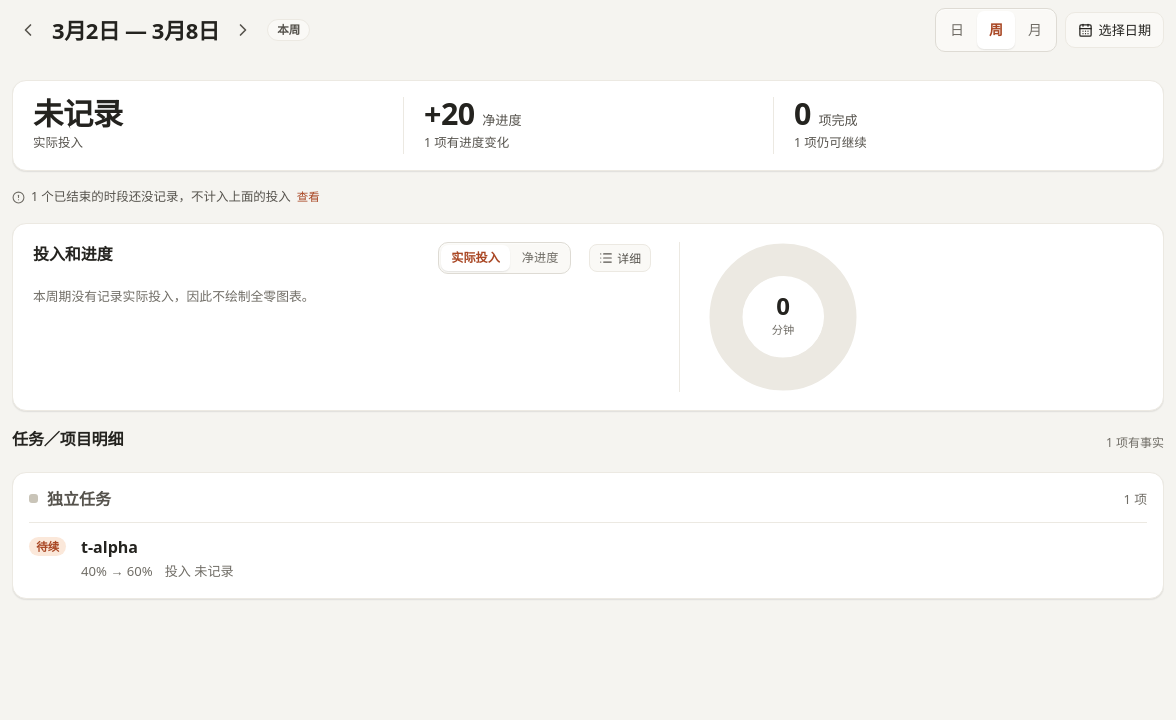
Test: review page › draws no all-zero chart and never reads 未记录 as a zero-percent execution rate
Expected: the text "本周期没有记录实际投入，因此不绘制全零图表。" is shown, 33,287 -> 314,305
切到净进度：同一张图这时才有柱子。
Step 1. Click the button "净进度" → (540, 258), box 512,245 -> 568,271
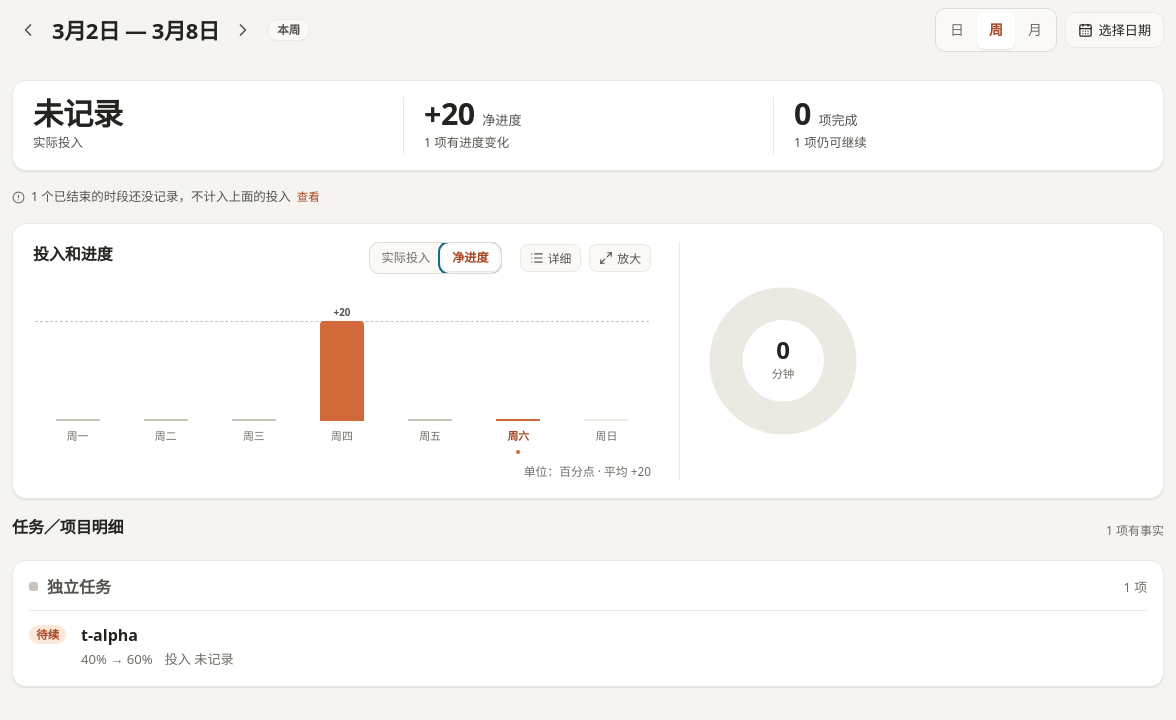
Now the element with class "review-chart-plot" is shown, box 33,287 -> 651,421
